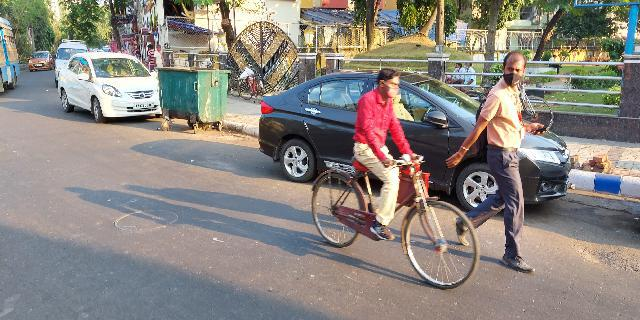Car: (253, 64, 569, 212), (54, 49, 164, 125), (25, 47, 52, 72)
Cycle: (303, 66, 483, 294)
